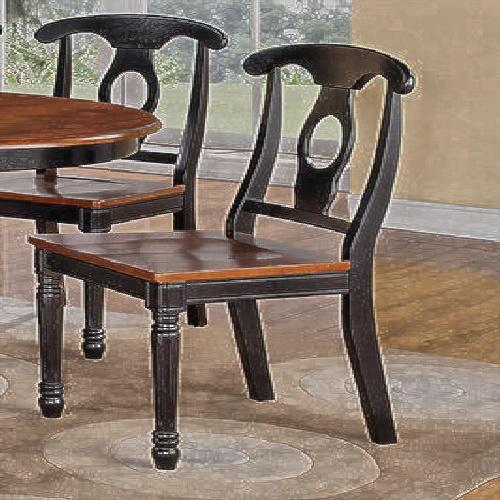table: (12, 92, 163, 176)
